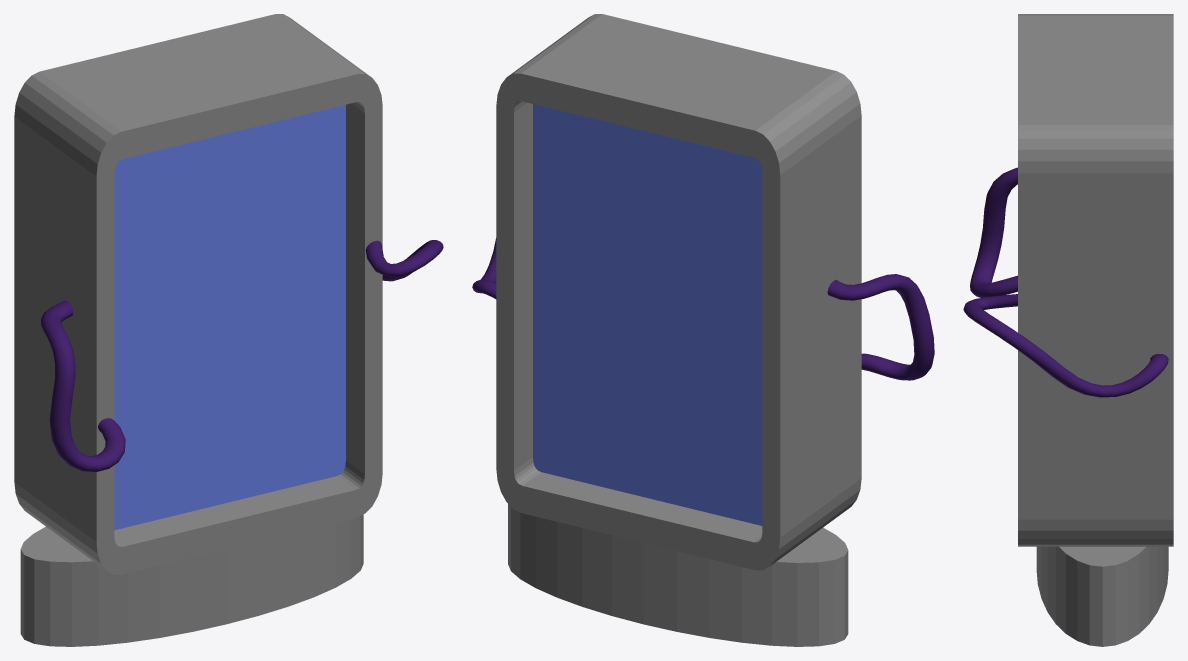
File: Mirror.fbx
The picture shows the model from 3 angles, left to right: view 1: azimuth 30°, elevation 25°; view 2: azimuth 150°, elevation 25°; view 3: azimuth 270°, elevation 25°; orthographic projection. The views are drawn at different scales.
Visible parts, largest first — view 1: Mirror, Base; view 2: Mirror, Base; view 3: Mirror, Base.
Boxes of the visible parts, bbox=[...] form: Mirror: bbox=[14, 14, 443, 574]; Base: bbox=[20, 514, 363, 646]; Mirror: bbox=[472, 14, 934, 570]; Base: bbox=[508, 504, 848, 646]; Mirror: bbox=[963, 14, 1173, 546]; Base: bbox=[1036, 546, 1168, 646].
Size of the model in its own units: 247 by 307 by 117.
